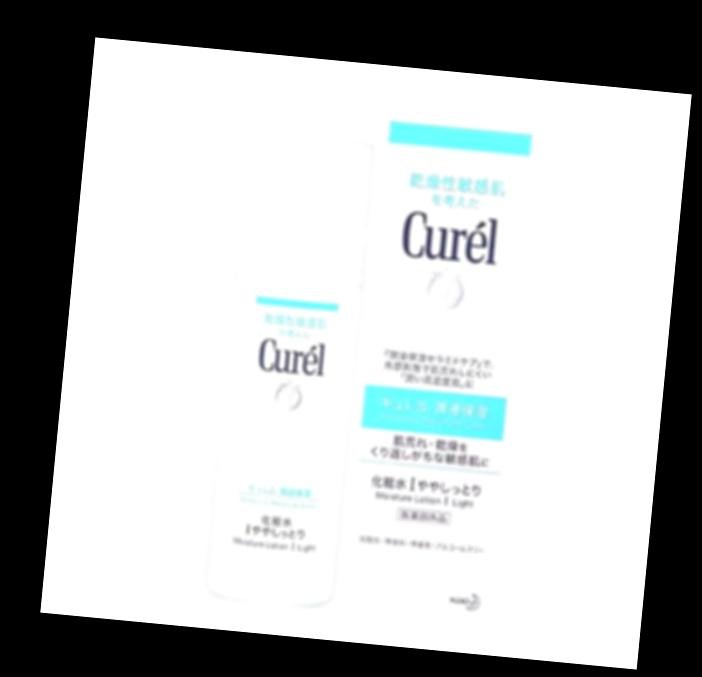cosmetic: (204, 131, 379, 597)
